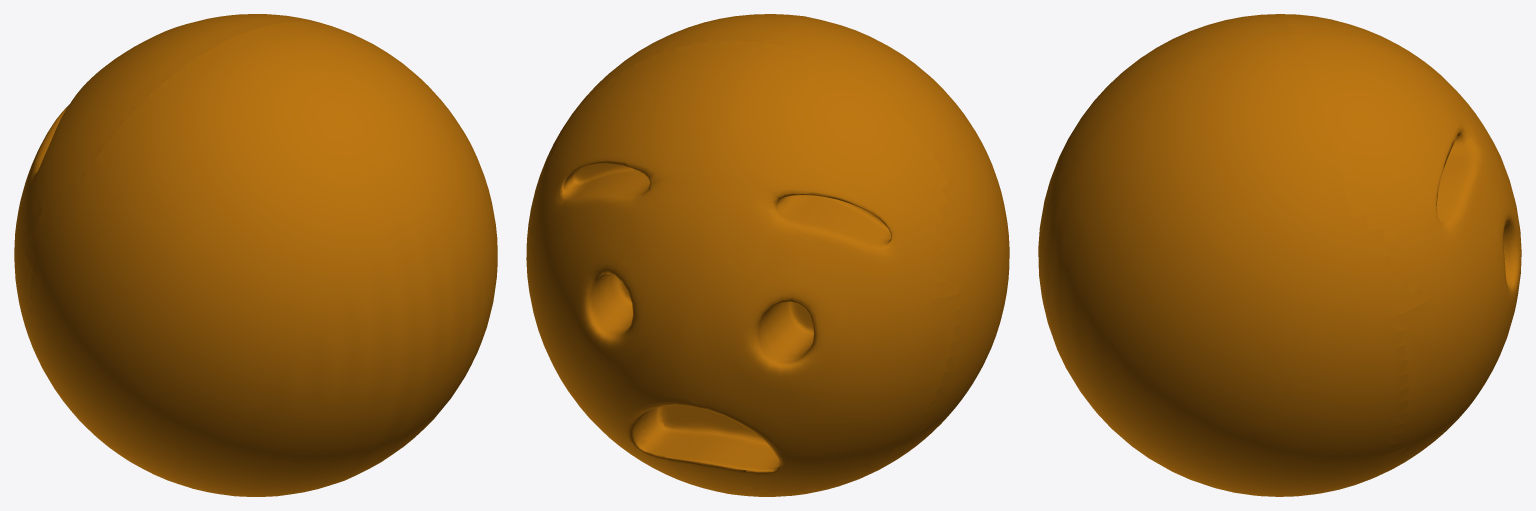
The model's file is worried 3DS.fbx.
3 renders of one model, left to right at view 1: azimuth 30°, elevation 25°; view 2: azimuth 150°, elevation 25°; view 3: azimuth 270°, elevation 25°, orthographic.
Visible parts, largest first — view 1: Group41740; view 2: Group41740; view 3: Group41740.
Boxes of the visible parts, box(x1,y1,x2,y2) form: Group41740: box(14, 14, 497, 496); Group41740: box(526, 14, 1009, 496); Group41740: box(1038, 14, 1521, 496).
Bounding box in the file's own units: 49.33 × 49.38 × 49.36.
